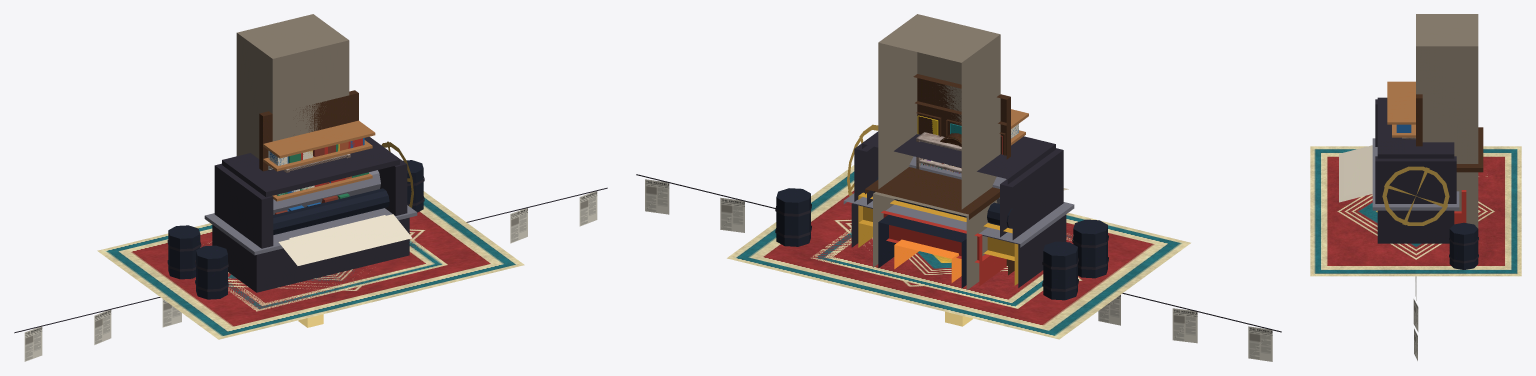
File: world-city3-library.glb
3 views of the same model, side by side, from view 1: azimuth 30°, elevation 25°; view 2: azimuth 150°, elevation 25°; view 3: azimuth 270°, elevation 25° (orthographic). The views are drawn at different scales.
Visible parts, largest first — view 1: LIB_press_machine, LIB_rug_6x4, LIB_fireplace, LIB_rug_4x3, LIB_shelf_bottles_a, LIB_newspaper_line, LIB_shelf_goods_a, LIB_shelf_goods_b; view 2: LIB_fireplace, LIB_press_machine, LIB_rug_6x4, LIB_rug_4x3, LIB_newspaper_line, LIB_booth_2m, LIB_shelf_bottles_a, LIB_sofa_3, LIB_shelf_goods_a, LIB_wooden_bookshelf_worn, LIB_frames_wall; view 3: LIB_rug_6x4, LIB_press_machine, LIB_fireplace, LIB_shelf_bottles_a, LIB_shelf_goods_a, LIB_newspaper_line, LIB_booth_2m.
Boxes of the visible parts, box(x1,y1,x2,y2) form: LIB_press_machine: box(167, 136, 424, 299); LIB_rug_6x4: box(97, 191, 524, 339); LIB_fireplace: box(236, 14, 349, 158); LIB_rug_4x3: box(205, 238, 447, 311); LIB_shelf_bottles_a: box(259, 90, 375, 171); LIB_newspaper_line: box(14, 187, 607, 361); LIB_shelf_goods_a: box(263, 118, 372, 214); LIB_shelf_goods_b: box(269, 138, 364, 211); LIB_fireplace: box(865, 14, 1000, 290); LIB_press_machine: box(775, 124, 1108, 300); LIB_rug_6x4: box(727, 165, 1190, 339); LIB_rug_4x3: box(811, 228, 1073, 308); LIB_newspaper_line: box(636, 174, 1281, 361); LIB_booth_2m: box(881, 210, 1006, 285); LIB_shelf_bottles_a: box(913, 74, 1028, 265); LIB_sofa_3: box(858, 192, 1018, 285); LIB_shelf_goods_a: box(915, 101, 1025, 155); LIB_wooden_bookshelf_worn: box(916, 132, 961, 172); LIB_frames_wall: box(916, 112, 1005, 155); LIB_rug_6x4: box(1310, 146, 1521, 276); LIB_press_machine: box(1339, 97, 1478, 269); LIB_fireplace: box(1416, 14, 1483, 228); LIB_shelf_bottles_a: box(1387, 81, 1422, 146); LIB_shelf_goods_a: box(1392, 120, 1420, 146); LIB_newspaper_line: box(1413, 276, 1418, 360); LIB_booth_2m: box(1454, 190, 1466, 224).
Bounding box in the file's own units: 12.4 × 5.45 × 4.4.
75 materials, 40 textured.
